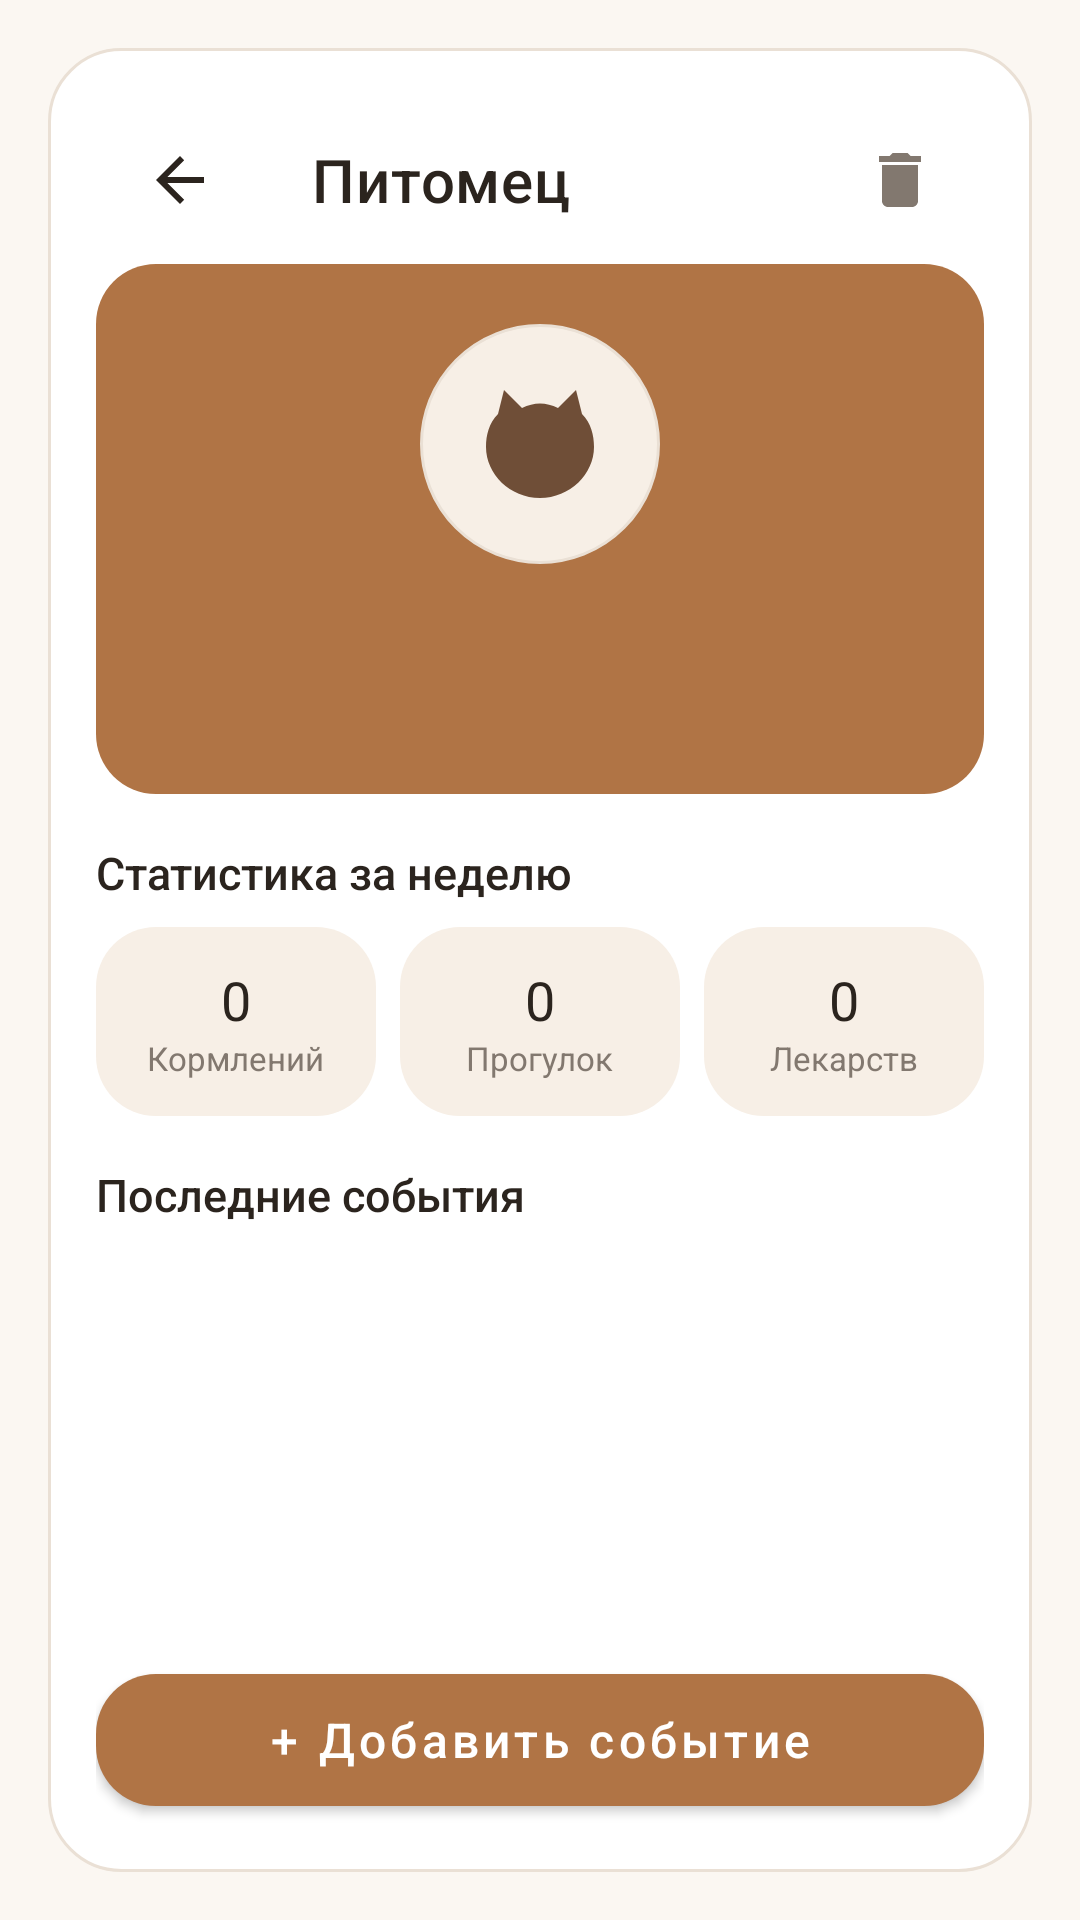

Screen size 1080 × 1920. Icon name, then its box in pixels as (left=x1, top=y1, right=x2, bottom=y2):
Удалить: (left=879, top=153, right=921, bottom=207)
